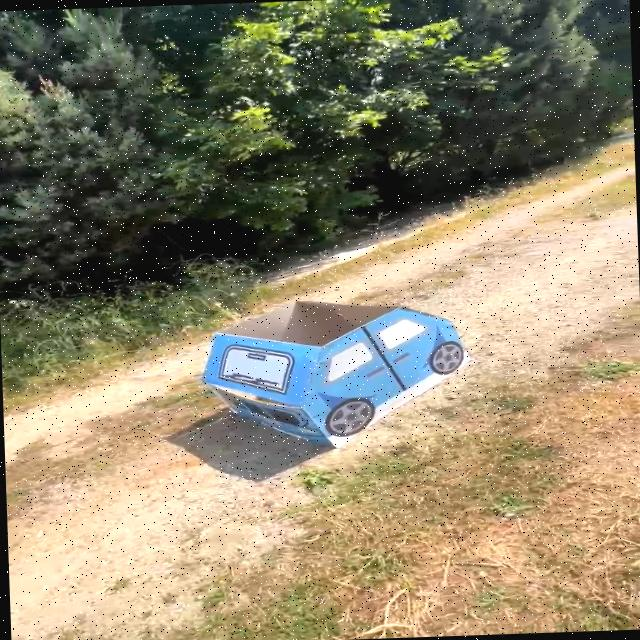blue_car: (182, 275, 488, 462)
